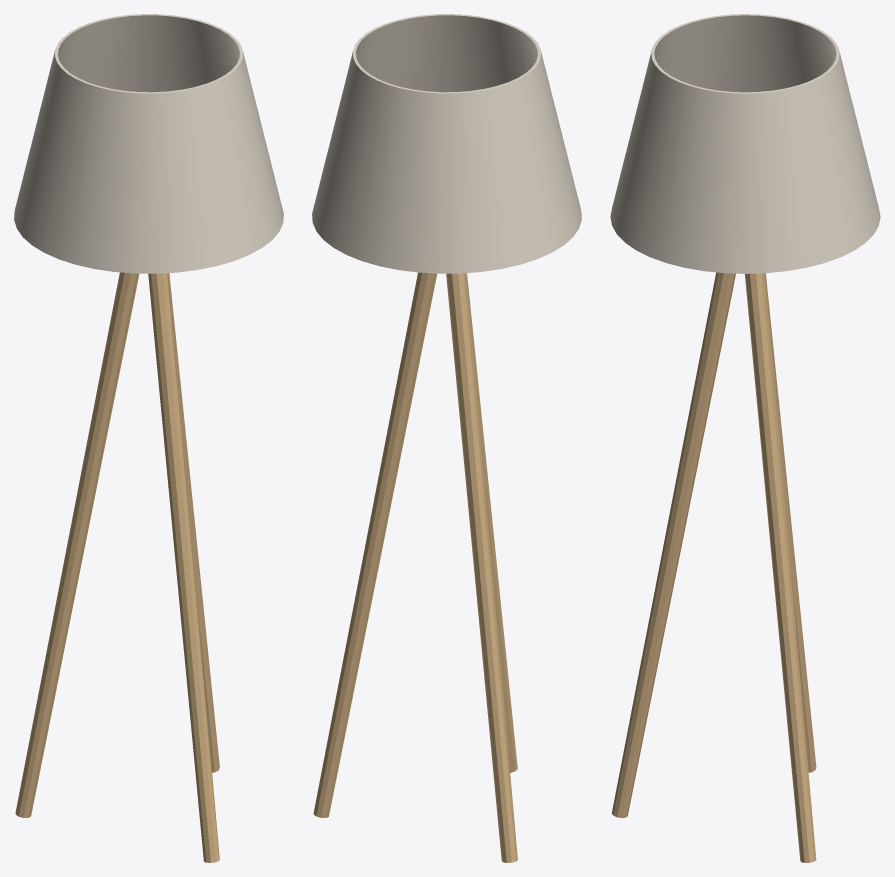
Rendered from floor_lamp_tripod.glb.
3 views of the same model, side by side, from view 1: azimuth 30°, elevation 25°; view 2: azimuth 150°, elevation 25°; view 3: azimuth 270°, elevation 25° (orthographic).
Visible parts, largest first — view 1: floor_lamp_tripod; view 2: floor_lamp_tripod; view 3: floor_lamp_tripod.
Boxes of the visible parts, bbox=[...] form: floor_lamp_tripod: bbox=[14, 14, 283, 862]; floor_lamp_tripod: bbox=[312, 14, 581, 862]; floor_lamp_tripod: bbox=[610, 14, 880, 862].
Size of the model in its own units: 0.45 by 1.4 by 0.45.
